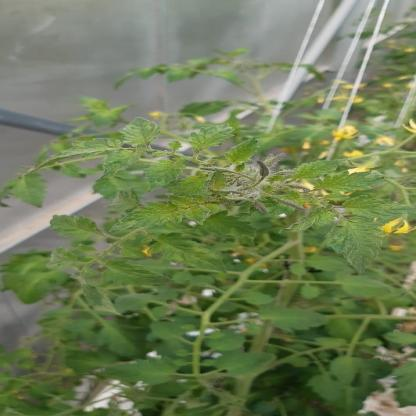T_L_H: (151, 234, 225, 272), (103, 261, 171, 286), (49, 217, 102, 239)
T_L_R: (326, 218, 385, 275), (112, 203, 184, 232), (344, 196, 416, 221), (279, 205, 336, 234), (316, 172, 385, 193), (318, 172, 385, 193), (145, 159, 186, 192), (191, 125, 235, 154), (121, 118, 161, 146), (293, 161, 342, 180), (226, 138, 260, 165)
